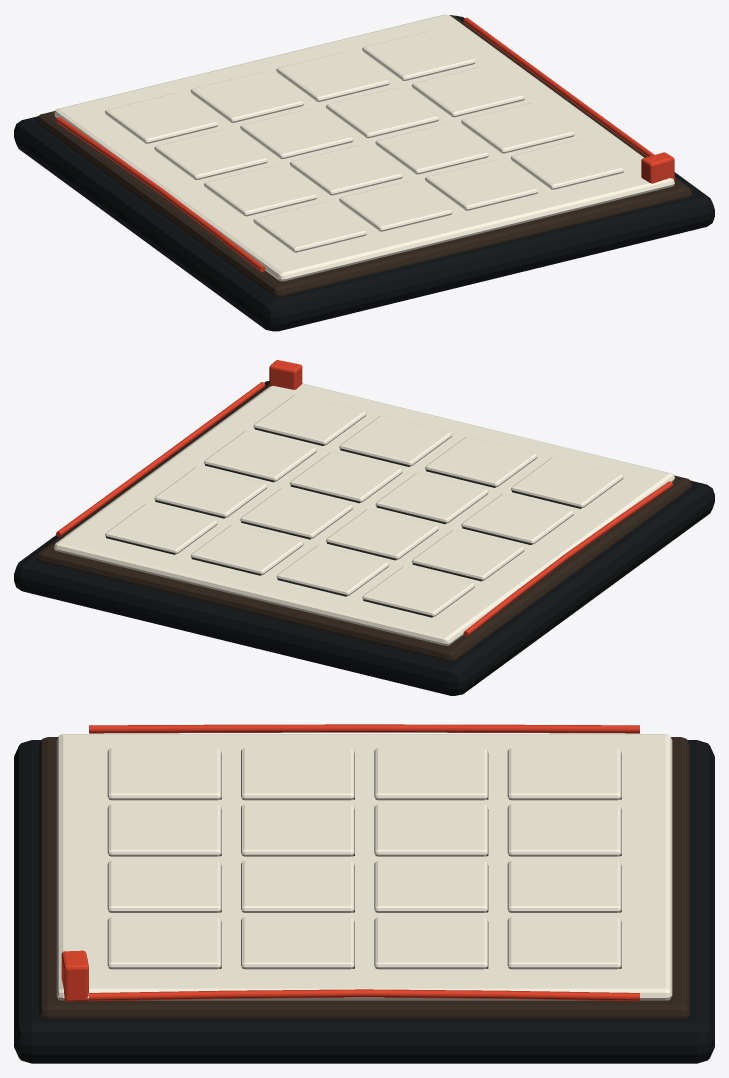
File: board-4x4.glb
3 renders of one model, top to bottom at view 1: azimuth 30°, elevation 25°; view 2: azimuth 150°, elevation 25°; view 3: azimuth 270°, elevation 25°, orthographic. The views are drawn at different scales.
Visible parts, largest first — view 1: V3 bright paper field, V3 carved inkstone, V3 blackwood inner lip, V3 tile 0-1, V3 tile 3-2, V3 tile 0-2, V3 tile 1-0, V3 tile 1-3, V3 tile 2-0, V3 tile 2-3, V3 tile 3-1, V3 tile 1-1 (+10 smaller); view 2: V3 bright paper field, V3 carved inkstone, V3 blackwood inner lip, V3 tile 2-2, V3 tile 3-0, V3 tile 0-3, V3 tile 1-1, V3 tile 1-2, V3 tile 0-2, V3 tile 1-0, V3 tile 1-3, V3 tile 2-1 (+10 smaller); view 3: V3 bright paper field, V3 carved inkstone, V3 blackwood inner lip, V3 tile 0-1, V3 tile 3-1, V3 tile 0-0, V3 tile 0-3, V3 tile 3-0, V3 tile 3-3, V3 tile 1-0, V3 tile 1-3, V3 tile 2-0 (+10 smaller).
Part boxes in pixels (bbox=[...]): V3 bright paper field: bbox=[54, 14, 674, 281]; V3 carved inkstone: bbox=[14, 15, 714, 331]; V3 blackwood inner lip: bbox=[36, 15, 692, 296]; V3 tile 0-1: bbox=[339, 181, 452, 231]; V3 tile 3-2: bbox=[276, 51, 389, 101]; V3 tile 0-2: bbox=[425, 160, 538, 210]; V3 tile 1-0: bbox=[204, 165, 317, 216]; V3 tile 1-3: bbox=[461, 103, 574, 153]; V3 tile 2-0: bbox=[154, 129, 267, 179]; V3 tile 2-3: bbox=[411, 66, 524, 117]; V3 tile 3-1: bbox=[190, 72, 303, 122]; V3 tile 1-1: bbox=[289, 144, 402, 195]; V3 bright paper field: bbox=[54, 383, 674, 645]; V3 carved inkstone: bbox=[14, 381, 714, 695]; V3 blackwood inner lip: bbox=[36, 384, 692, 661]; V3 tile 2-2: bbox=[240, 488, 353, 538]; V3 tile 3-0: bbox=[362, 566, 475, 616]; V3 tile 0-3: bbox=[253, 394, 366, 445]; V3 tile 1-1: bbox=[375, 473, 488, 523]; V3 tile 1-2: bbox=[289, 452, 402, 502]; V3 tile 0-2: bbox=[339, 415, 452, 466]; V3 tile 1-0: bbox=[461, 494, 574, 544]; V3 tile 1-3: bbox=[204, 431, 316, 481]; V3 tile 2-1: bbox=[326, 509, 439, 559]; V3 bright paper field: bbox=[56, 734, 672, 1000]; V3 carved inkstone: bbox=[14, 740, 714, 1063]; V3 blackwood inner lip: bbox=[39, 737, 689, 1018]; V3 tile 0-1: bbox=[107, 804, 221, 856]; V3 tile 3-1: bbox=[507, 804, 621, 856]; V3 tile 0-0: bbox=[107, 748, 221, 800]; V3 tile 0-3: bbox=[107, 917, 221, 969]; V3 tile 3-0: bbox=[507, 748, 621, 800]; V3 tile 3-3: bbox=[507, 917, 621, 969]; V3 tile 1-0: bbox=[241, 748, 354, 800]; V3 tile 1-3: bbox=[241, 917, 354, 969]; V3 tile 2-0: bbox=[374, 748, 487, 800].
Size of the model in its own units: 5.6 by 0.76 by 5.6.
